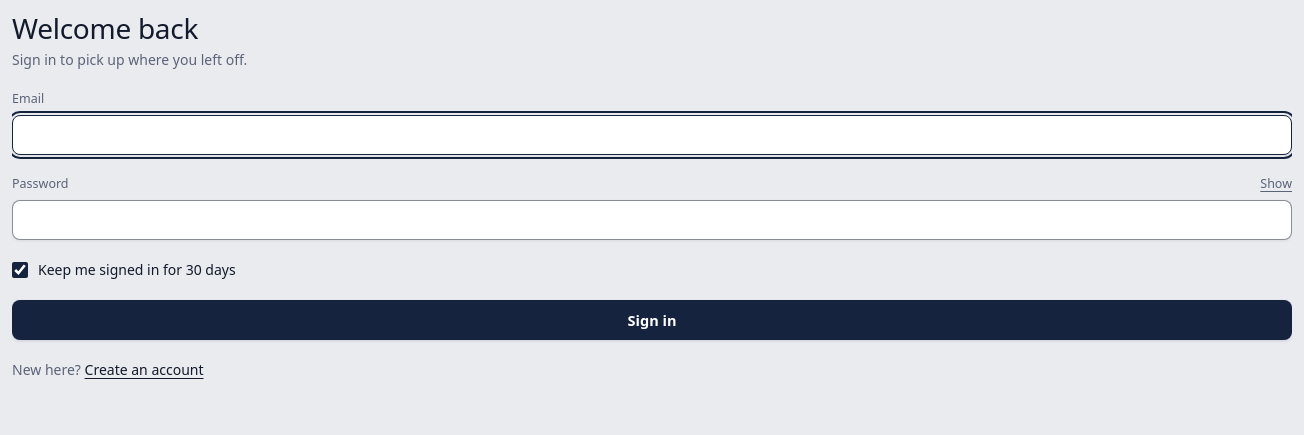
Scenario: LoginForm › shows the server's error, and clears it when typing again
Type "asha@example.com" into the field labelled "Email" at point(652, 135), box [12,115,1292,155]
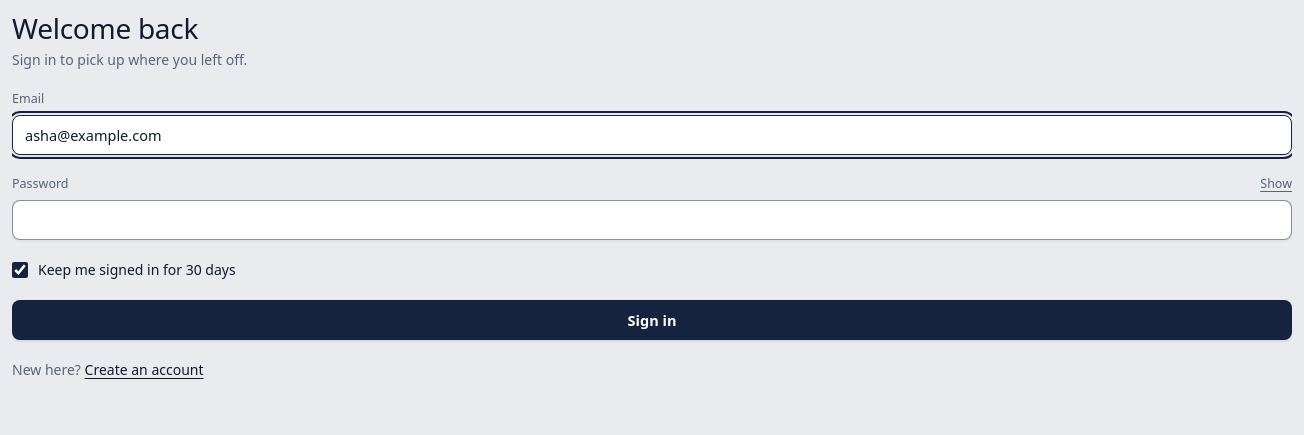
Type "nope" into the password field labelled "Password" at point(652, 220), box [12,200,1292,240]
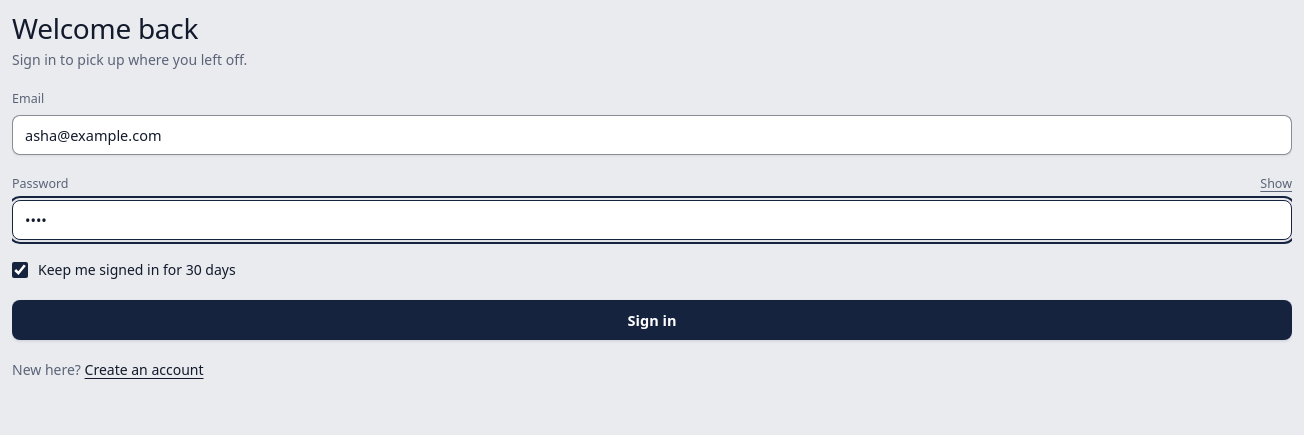
Click the button "Sign in" at point(652, 320), box [12,300,1292,340]
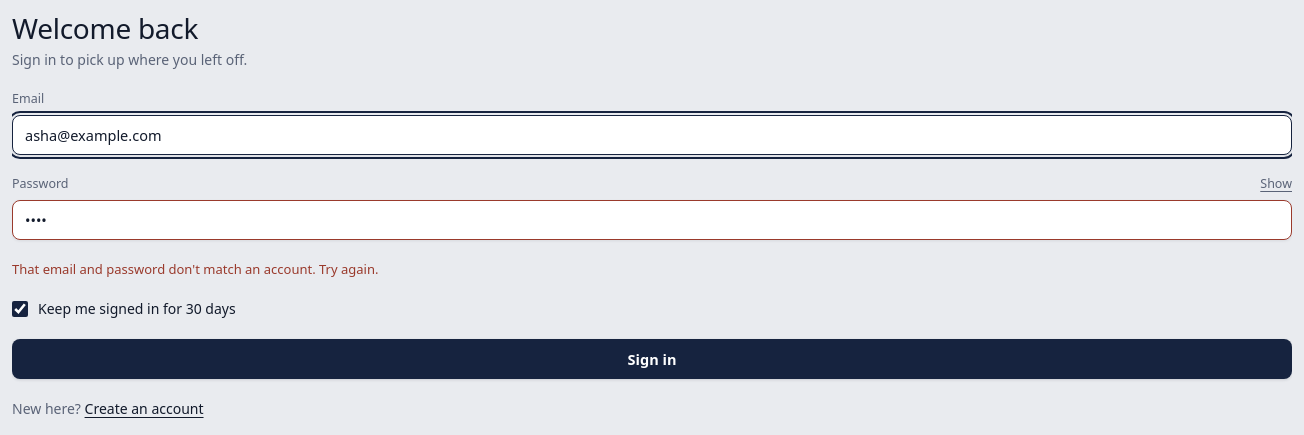
Expected: the message reads "That email and password don't match an account. Try again.", [12,260,378,278]
Type "x" into the password field labelled "Password" at point(652, 220), box [12,200,1292,240]
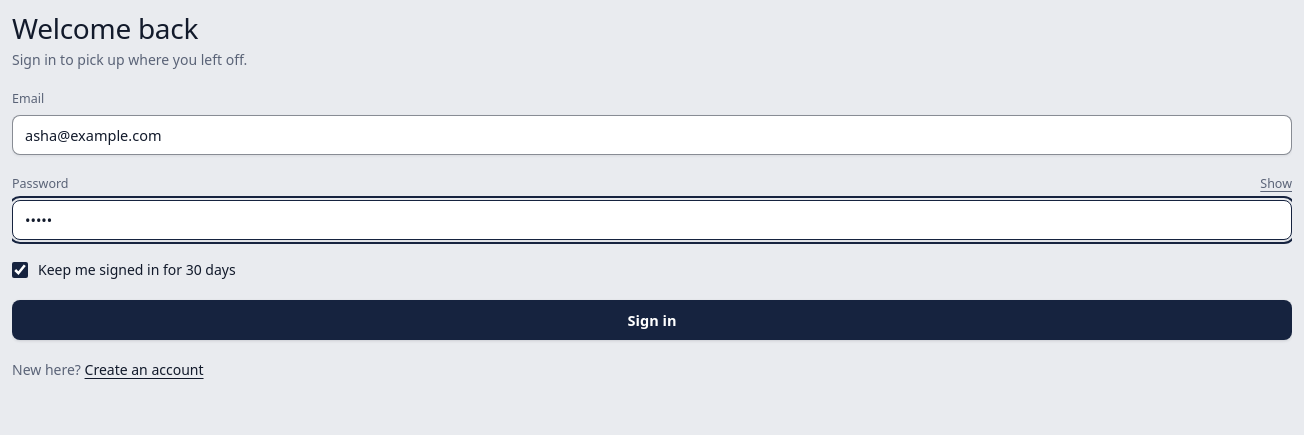
Expected: the message "That email and password don't match an account. Try again." is gone
